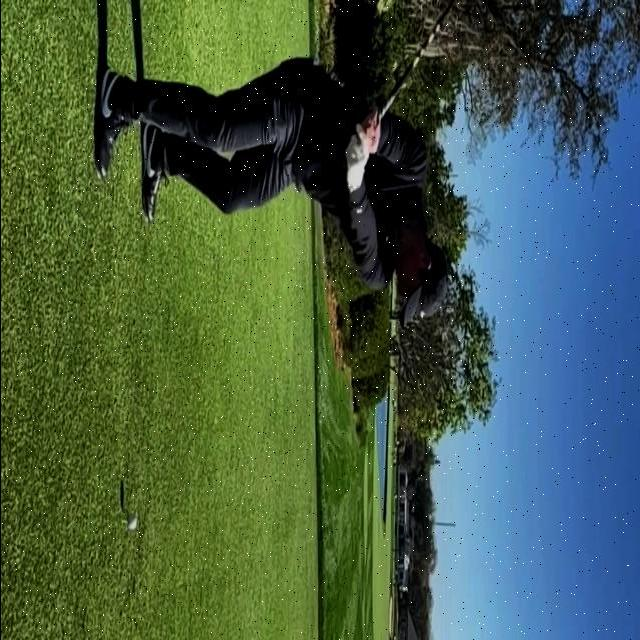golf ball: (127, 518, 137, 534)
golf club-handle: (352, 0, 456, 164)
